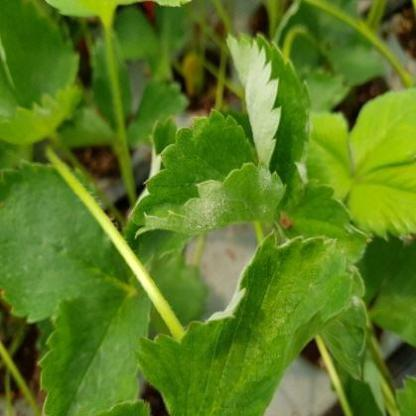Strawberry_Powdery_Mildew_Leaf: (130, 231, 356, 416), (128, 108, 286, 238), (276, 178, 372, 383), (225, 32, 312, 188)
